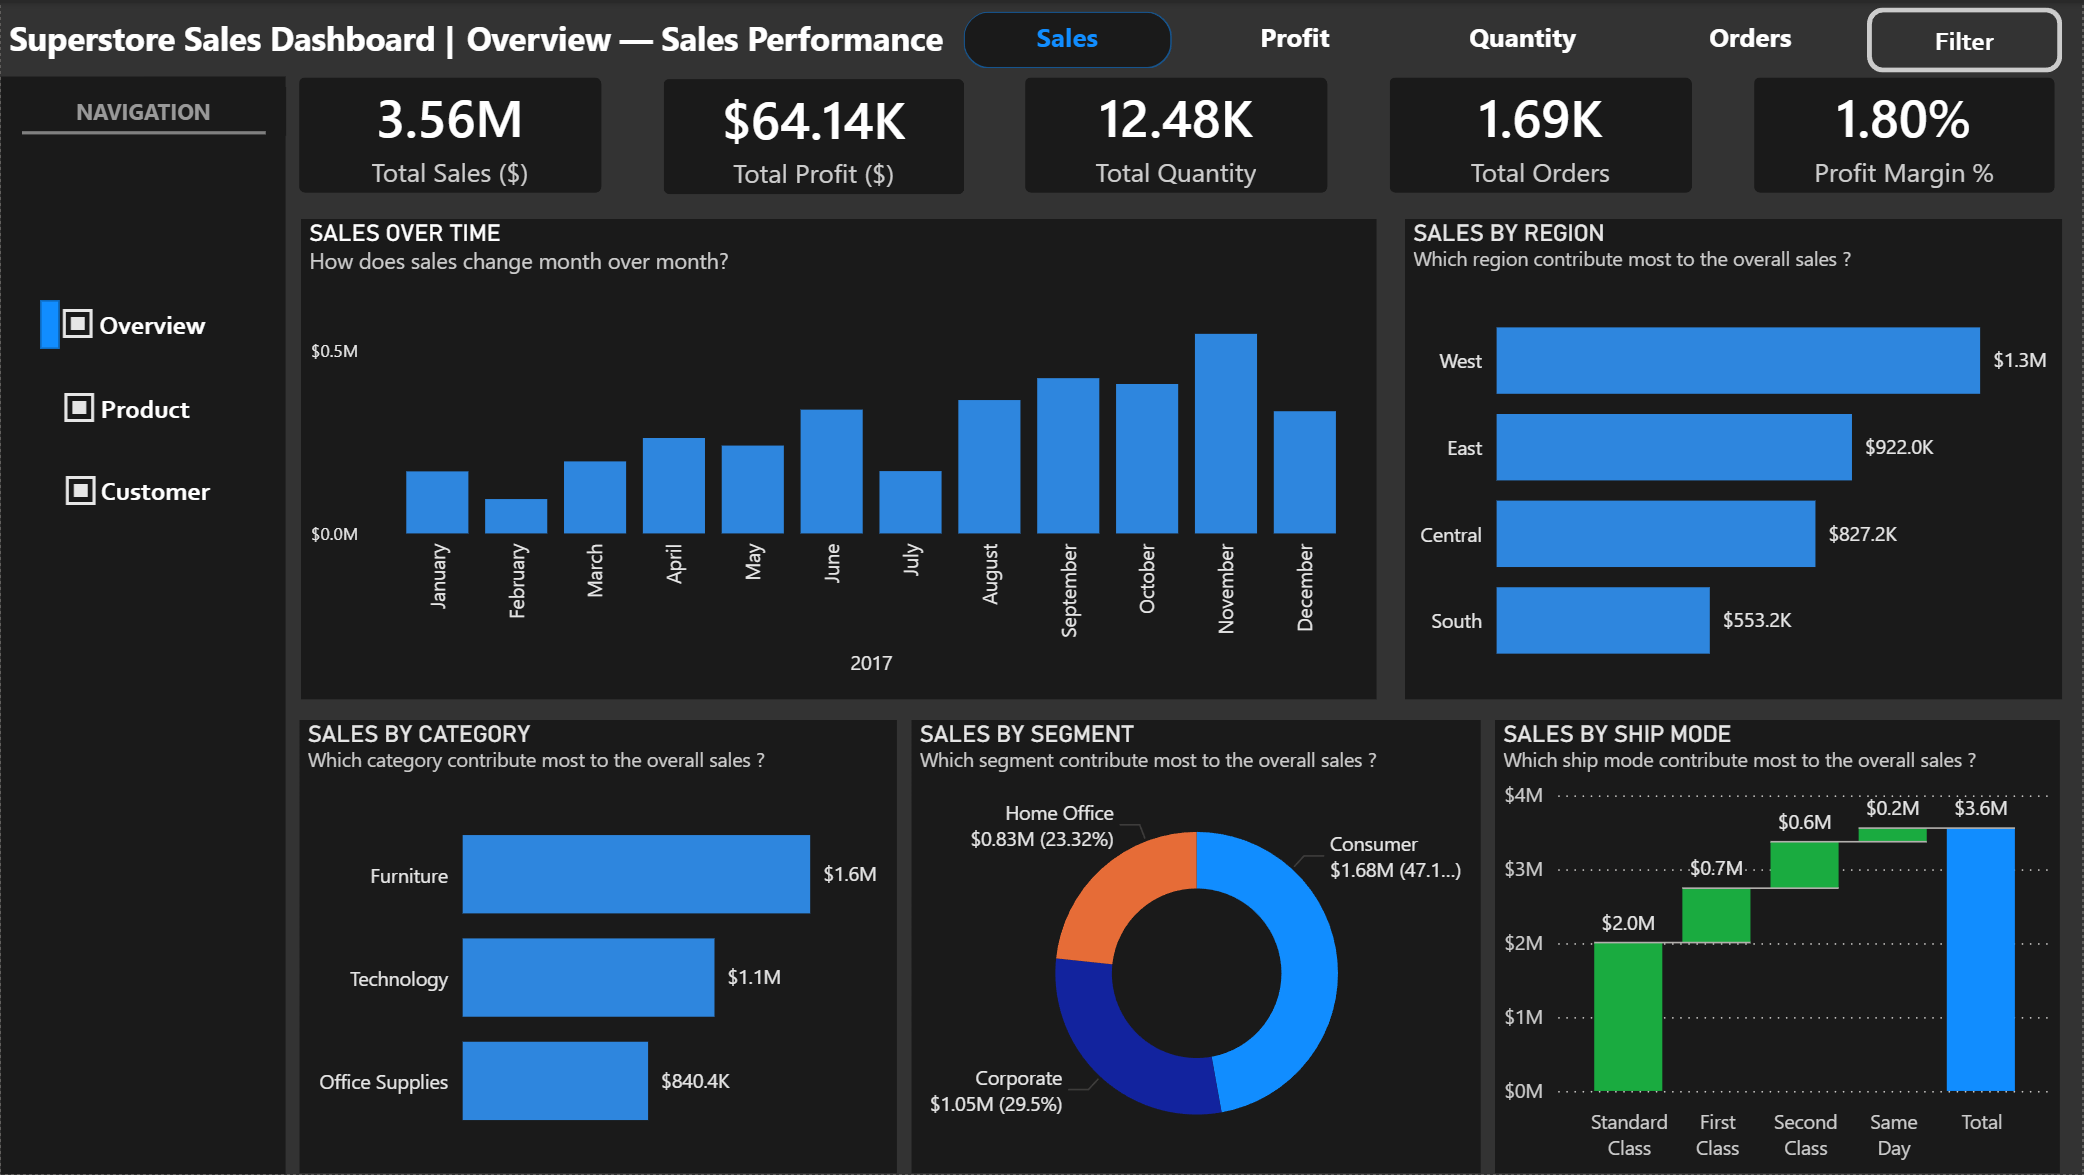

The dashboard page shown, as its layout file describes it:
{"tool":"powerbi","page":{"name":"Overview","canvas":[1280,720],"ordinal":1},"visuals":[{"type":"cardVisual","title":"Card - Orders","fields":{"Data":["Measure.Profit Margin %"]},"box":[1060.8,28.1,219.2,105.5],"z":0},{"type":"clusteredColumnChart","fields":{"Y":["Measure.Total Sales"],"Category":["DimDate.Year","DimDate.Month"]},"box":[184,133,661,295],"z":0,"group":"g1"},{"type":"cardVisual","title":"Card - Orders","fields":{"Data":["Measure.Total Orders"]},"box":[836.7,28.1,220.4,105.5],"z":1000},{"type":"barChart","fields":{"Y":["Measure.Total Sales"],"Category":["DimGeo.Region","DimGeo.State"]},"box":[863,133,404,295],"z":1000,"group":"g1"},{"type":"cardVisual","title":"Card - Quantity","fields":{"Data":["Measure.Total Quantity"]},"box":[612.8,28.6,220.2,105.5],"z":2000},{"type":"donutChart","fields":{"Y":["Measure.Total Sales"],"Category":["DimCustomer.Segment"]},"box":[560,441.2,350,278.8],"z":2000,"group":"g1"},{"type":"cardVisual","title":"Card - Profit","fields":{"Data":["Measure.Total Profit"]},"box":[389.9,29.6,219.2,105.5],"z":3000},{"type":"barChart","fields":{"Y":["Measure.Total Sales"],"Category":["DimProduct.Category","DimProduct.Sub-Category"]},"box":[183.8,441.2,367.5,278.8],"z":3000,"group":"g1"},{"type":"cardVisual","title":"Card - Sales","fields":{"Data":["Measure.Total Sales"]},"box":[165.9,28.7,220.2,105.3],"z":4000},{"type":"waterfallChart","fields":{"Y":["Measure.Total Sales"],"Category":["FactSales.Ship Mode"]},"box":[918.8,441.2,347.5,278.8],"z":4000,"group":"g1"},{"type":"actionButton","title":"Tab - Filter","box":[1147,3,120,40],"z":8000},{"type":"shape","title":"Nav - Background","box":[0,45,175,675],"z":9000},{"type":"textbox","title":"Nav - Title","box":[0,51.2,175,30],"z":10000},{"type":"shape","title":"Nav - divider","box":[13.1,51.3,149.9,56.3],"z":11000},{"type":"shape","title":"Nav - overview Indicator","box":[24.1,183.1,12.1,30.2],"z":12000},{"type":"actionButton","title":"Nav - overview icon","box":[24.3,173.6,46.4,37.9],"z":13000},{"type":"textbox","title":"Nav - overview text","box":[55.5,182.7,110.9,29.1],"z":14000},{"type":"actionButton","title":"Nav - overview btn","box":[20.9,177.3,104.5,40],"z":15000},{"type":"actionButton","title":"Nav - product icon","box":[24.7,225.1,46.4,37.9],"z":17000},{"type":"textbox","title":"Nav - product text","box":[55.8,234.2,110.9,29.1],"z":18000},{"type":"actionButton","title":"Nav - product btn","box":[21.3,228.8,104.5,40],"z":19000},{"type":"actionButton","title":"Nav - customer icon","box":[25.4,276.2,46.4,37.9],"z":21000},{"type":"textbox","title":"Nav - customer text","box":[56.6,285.3,110.9,29.1],"z":22000},{"type":"actionButton","title":"Nav - customer btn","box":[22,279.9,104.5,40],"z":23000},{"type":"group","id":"g1","title":"Tab Sales","box":[0,0,1267,720],"z":24000},{"type":"advancedSlicerVisual","fields":{"Values":["Metric Parameter.Metric Parameter"]},"box":[587,0,560,45],"z":26000},{"type":"shape","box":[281,0,306,43],"z":27000},{"type":"shape","box":[0,0,284,43],"z":34001,"group":"g1"}]}

Visuals, with their boxes in screenshot pixels (x1, y1, x2, y2), scaled from the page's 1280x720 canvas onto the 2084x1175 screenshot:
"Card - Orders" cardVisual: x1=1727, y1=46, x2=2083, y2=218
clusteredColumnChart - Measure.Total Sales x DimDate.Year: x1=300, y1=217, x2=1376, y2=698
"Card - Orders" cardVisual: x1=1362, y1=46, x2=1721, y2=218
barChart - Measure.Total Sales x DimGeo.Region: x1=1405, y1=217, x2=2063, y2=698
"Card - Quantity" cardVisual: x1=998, y1=47, x2=1356, y2=219
donutChart - Measure.Total Sales x DimCustomer.Segment: x1=912, y1=720, x2=1482, y2=1174
"Card - Profit" cardVisual: x1=635, y1=48, x2=992, y2=220
barChart - Measure.Total Sales x DimProduct.Category: x1=299, y1=720, x2=898, y2=1174
"Card - Sales" cardVisual: x1=270, y1=47, x2=629, y2=219
waterfallChart - Measure.Total Sales x FactSales.Ship Mode: x1=1496, y1=720, x2=2062, y2=1174
"Tab - Filter" actionButton: x1=1867, y1=5, x2=2063, y2=70
"Nav - Background" shape: x1=0, y1=73, x2=285, y2=1174
"Nav - Title" textbox: x1=0, y1=84, x2=285, y2=133
"Nav - divider" shape: x1=21, y1=84, x2=265, y2=176
"Nav - overview Indicator" shape: x1=39, y1=299, x2=59, y2=348
"Nav - overview icon" actionButton: x1=40, y1=283, x2=115, y2=345
"Nav - overview text" textbox: x1=90, y1=298, x2=271, y2=346
"Nav - overview btn" actionButton: x1=34, y1=289, x2=204, y2=355
"Nav - product icon" actionButton: x1=40, y1=367, x2=116, y2=429
"Nav - product text" textbox: x1=91, y1=382, x2=271, y2=430
"Nav - product btn" actionButton: x1=35, y1=373, x2=205, y2=439
"Nav - customer icon" actionButton: x1=41, y1=451, x2=117, y2=513
"Nav - customer text" textbox: x1=92, y1=466, x2=273, y2=513
"Nav - customer btn" actionButton: x1=36, y1=457, x2=206, y2=522
"Tab Sales" group: x1=0, y1=0, x2=2063, y2=1174
advancedSlicerVisual - Metric Parameter.Metric Parameter: x1=956, y1=0, x2=1867, y2=73
shape: x1=458, y1=0, x2=956, y2=70
shape: x1=0, y1=0, x2=462, y2=70
